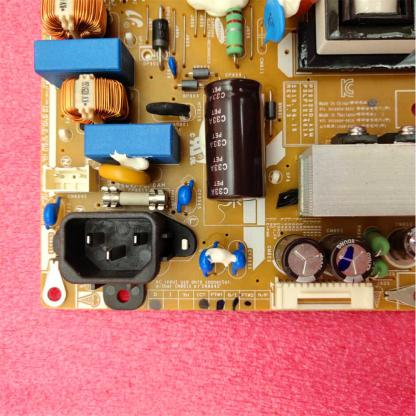Cap3: (266, 236, 330, 286), (326, 229, 378, 286)
Cap4: (198, 77, 270, 205)
Mov: (251, 0, 288, 50)
Resestor: (221, 4, 254, 71)
Transformer: (288, 0, 415, 76)
